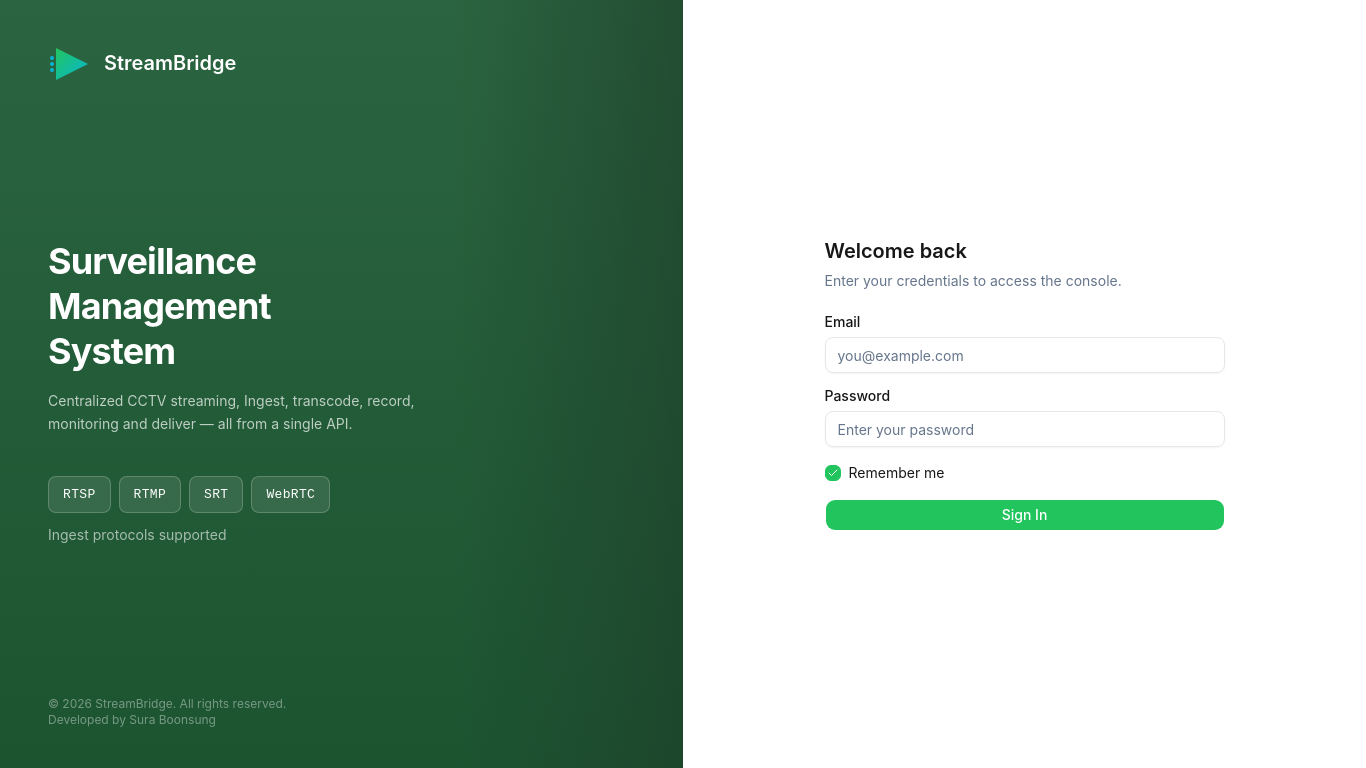
Test: sign-in page — split-screen layout and remember me › shows error message on failed login
The image size is (1366, 768).
Type "user@test.com" into the field labelled "Email" at (1024, 355), box x1=824 y1=337 x2=1224 y2=373
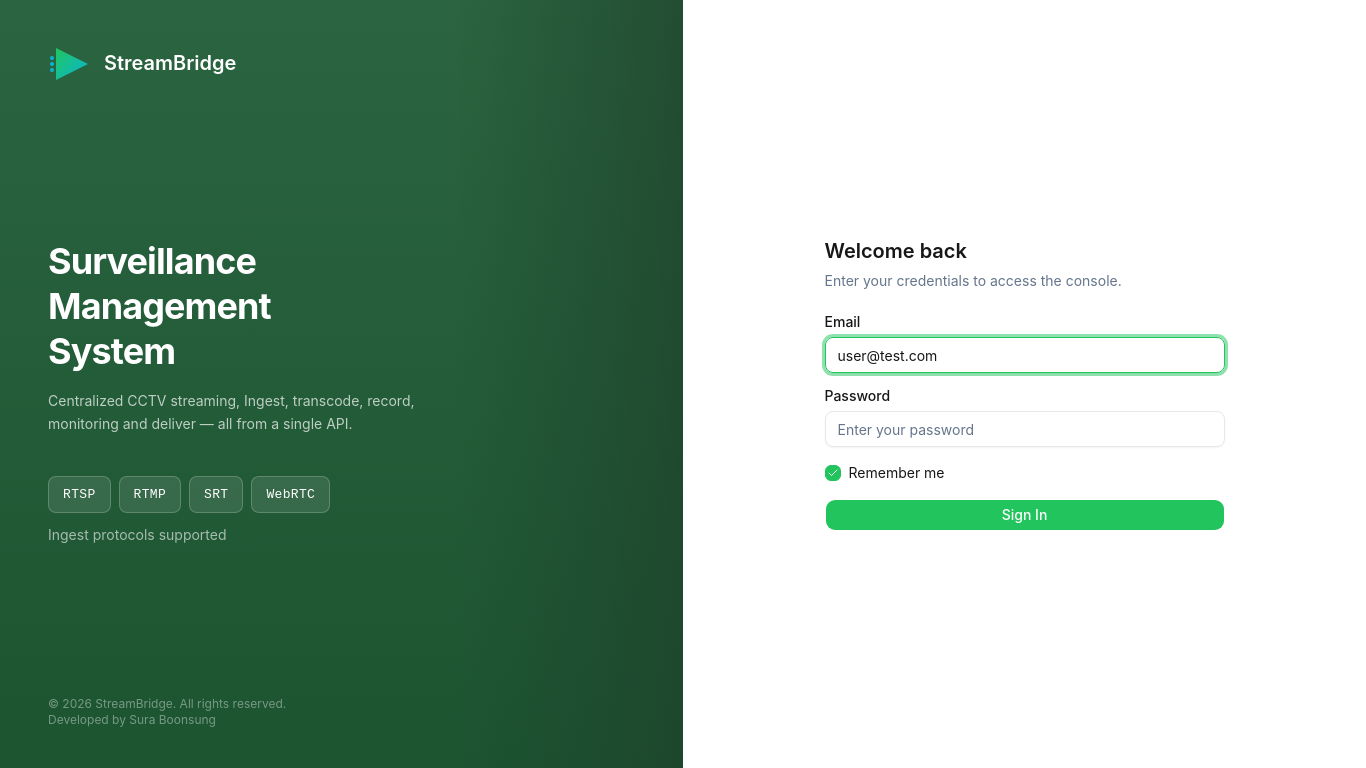
Type "password123" into the password field labelled "Password" at (1024, 429), box x1=824 y1=411 x2=1224 y2=447
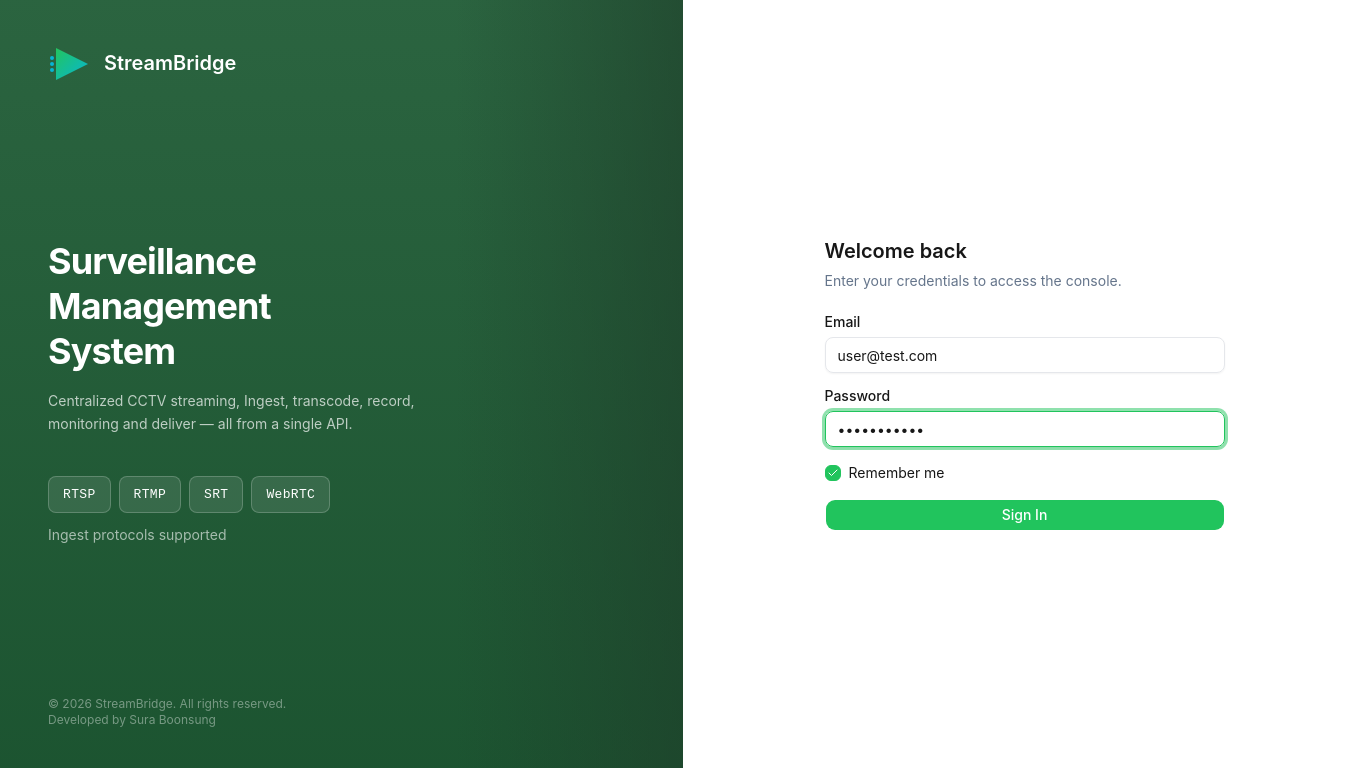
Click the button "Sign In" at (1024, 515), box x1=824 y1=499 x2=1224 y2=531
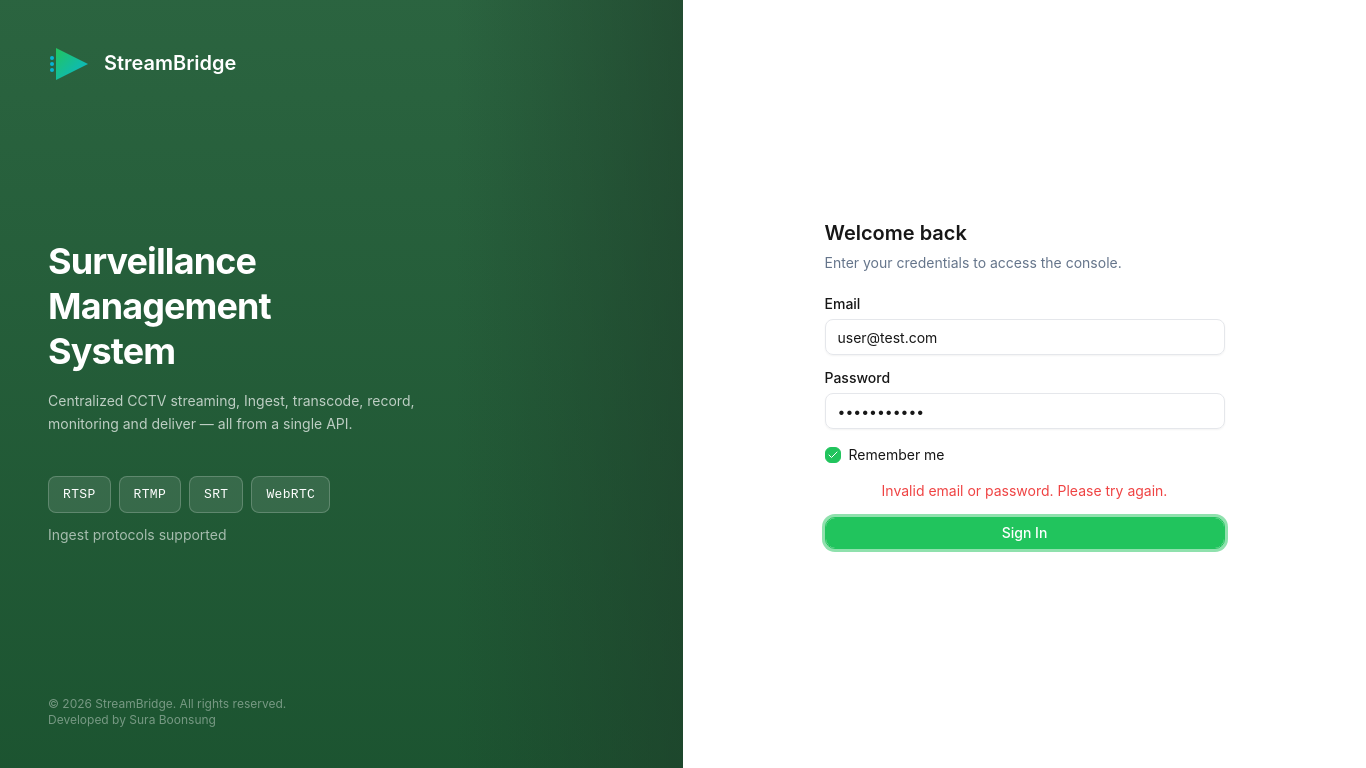
Check: the text "Invalid email or password. Please try again." is shown, box x1=882 y1=482 x2=1167 y2=499
